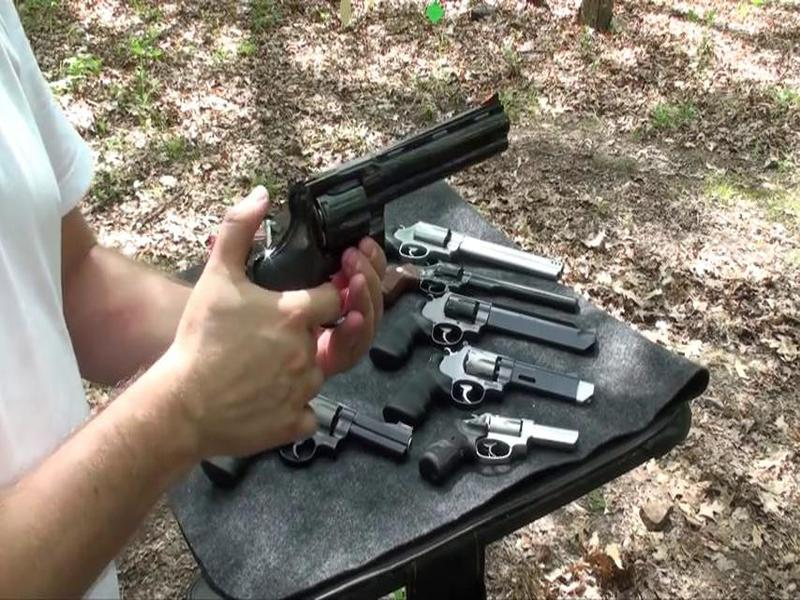Revolver: (243, 81, 547, 317)
